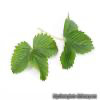Strawberry leaf: (66, 28, 94, 59), (28, 46, 49, 83), (10, 40, 31, 76), (31, 33, 59, 58), (58, 40, 77, 73), (62, 12, 80, 40)
